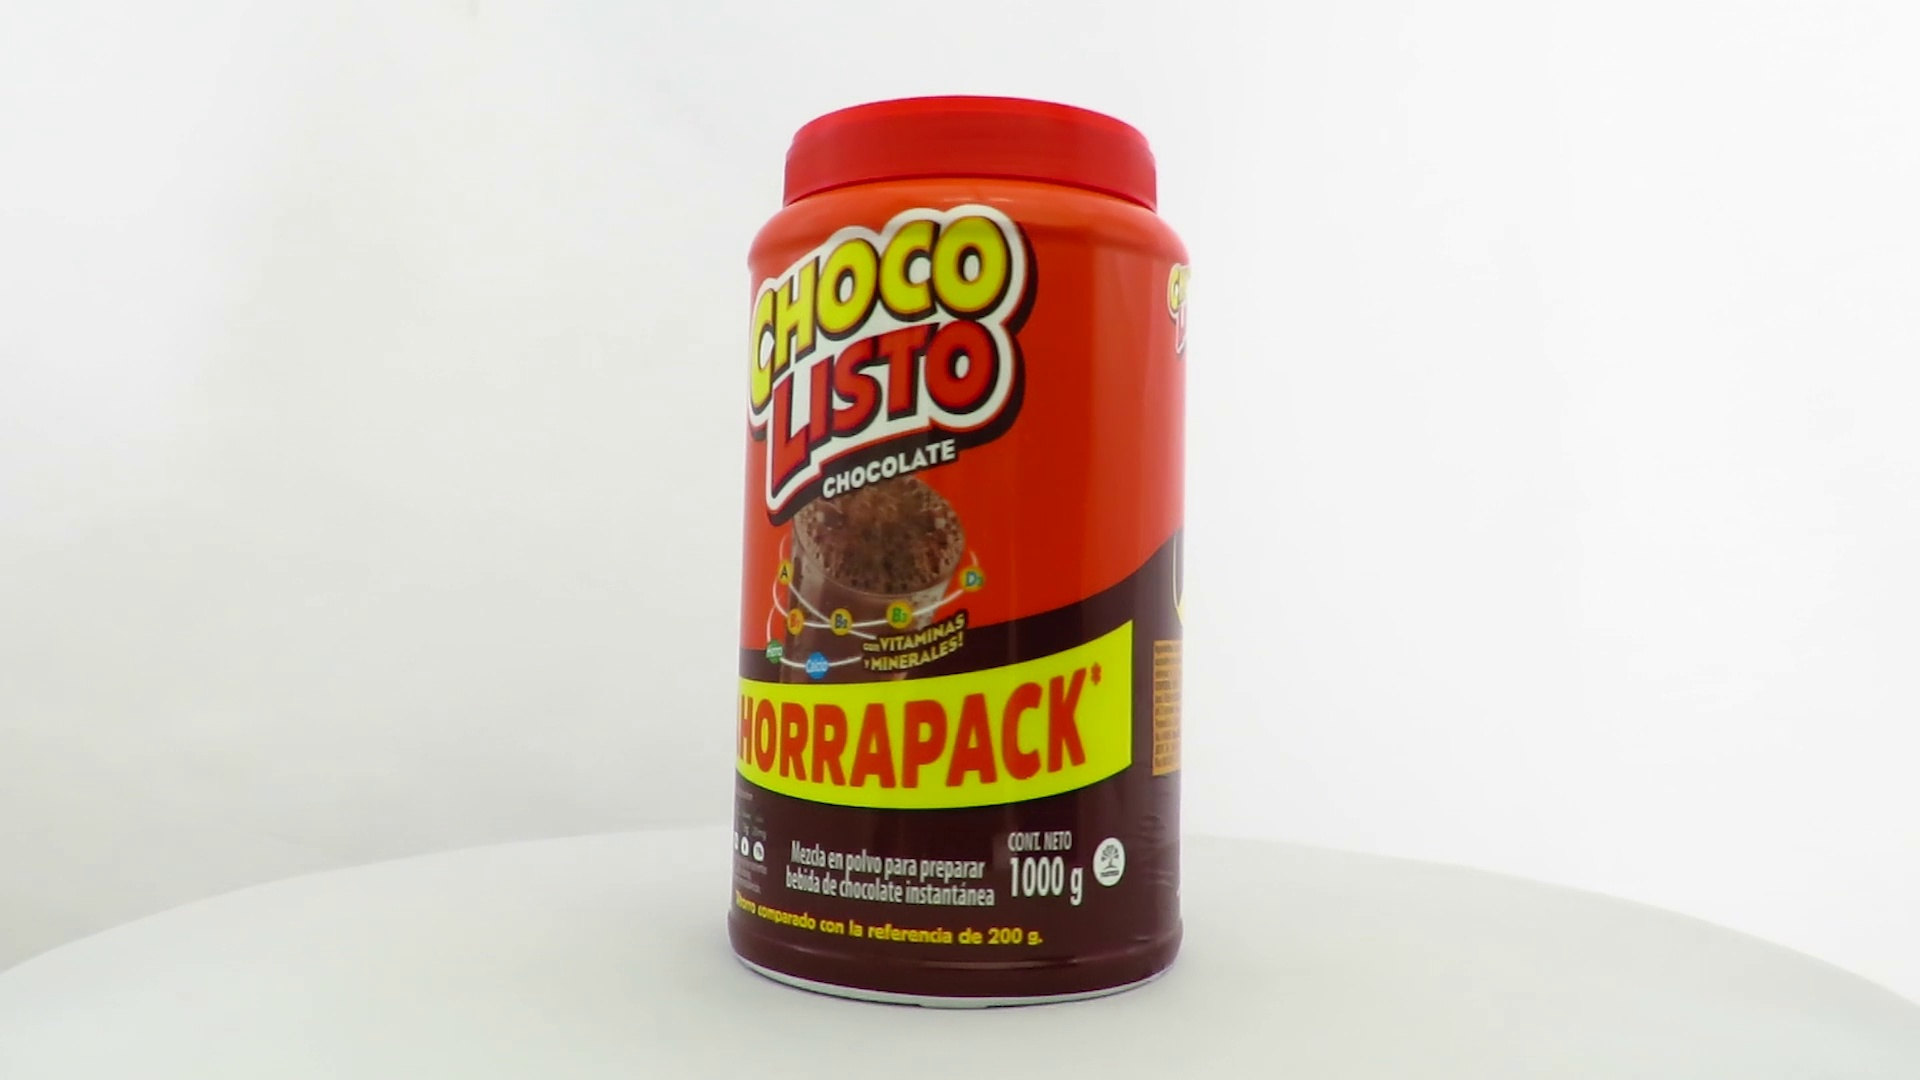COL0170103TRR00100: (723, 90, 1197, 1015)
